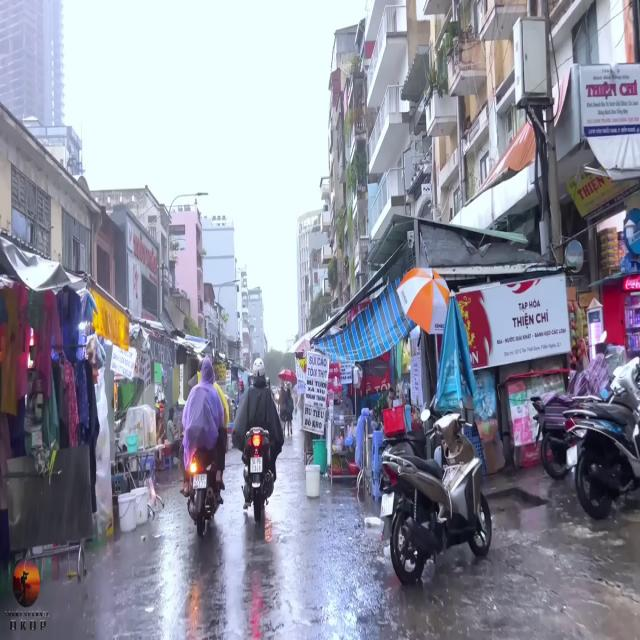bien_trang: (247, 456, 264, 474), (193, 471, 207, 492)
